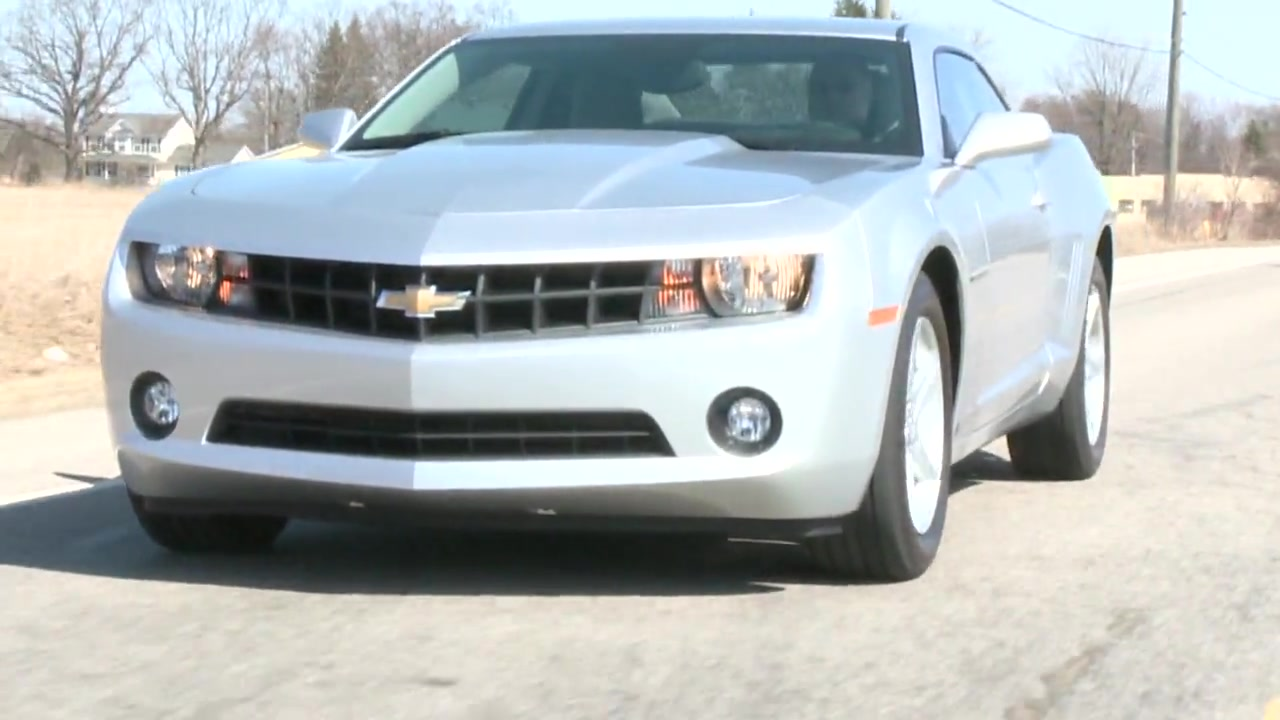car: (98, 17, 1113, 605)
